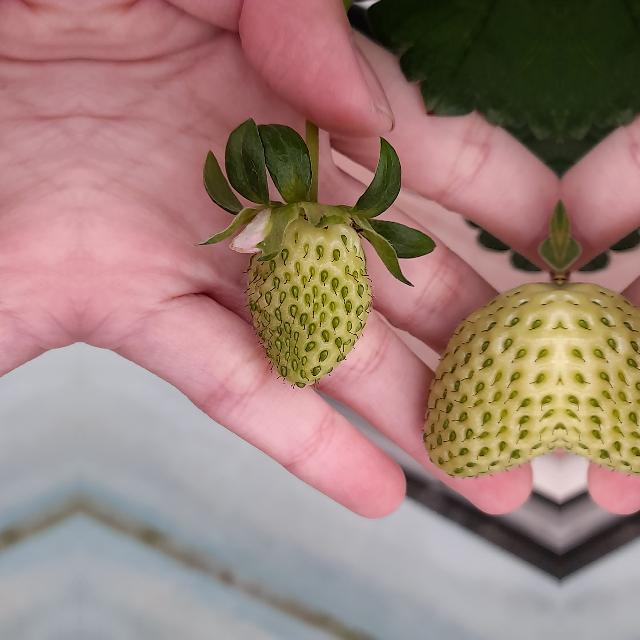Health_25: (425, 274, 559, 482), (245, 216, 371, 388), (561, 274, 640, 481)
